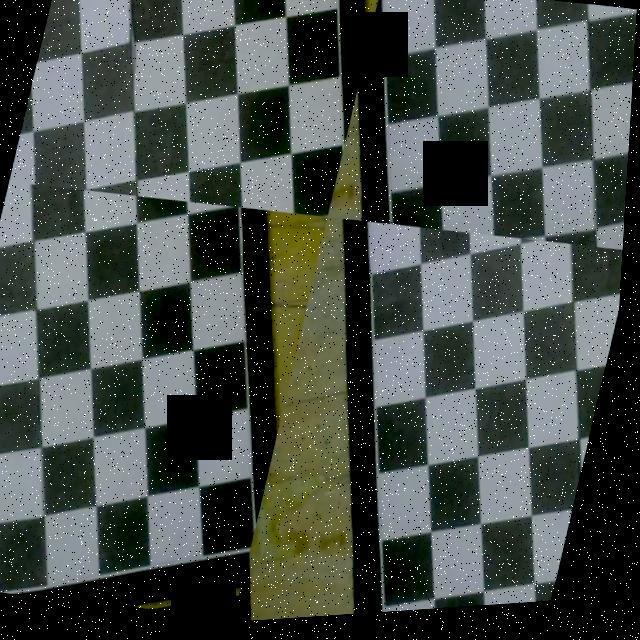chess-table-corners: (558, 582, 564, 594), (252, 546, 258, 556)
